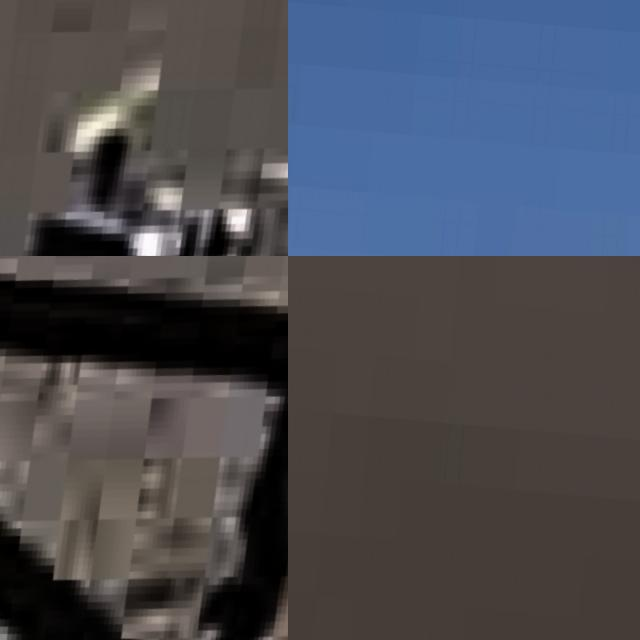drone: (0, 256, 288, 640), (0, 0, 288, 256)
